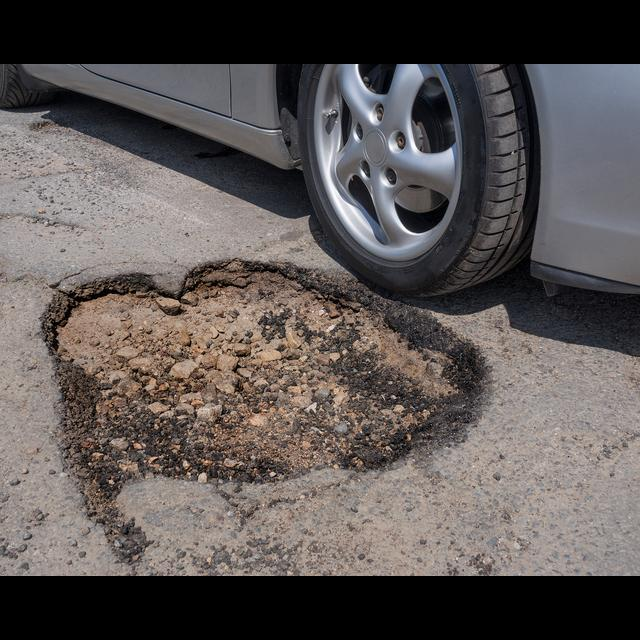lubang_kecil: (20, 259, 489, 502)
